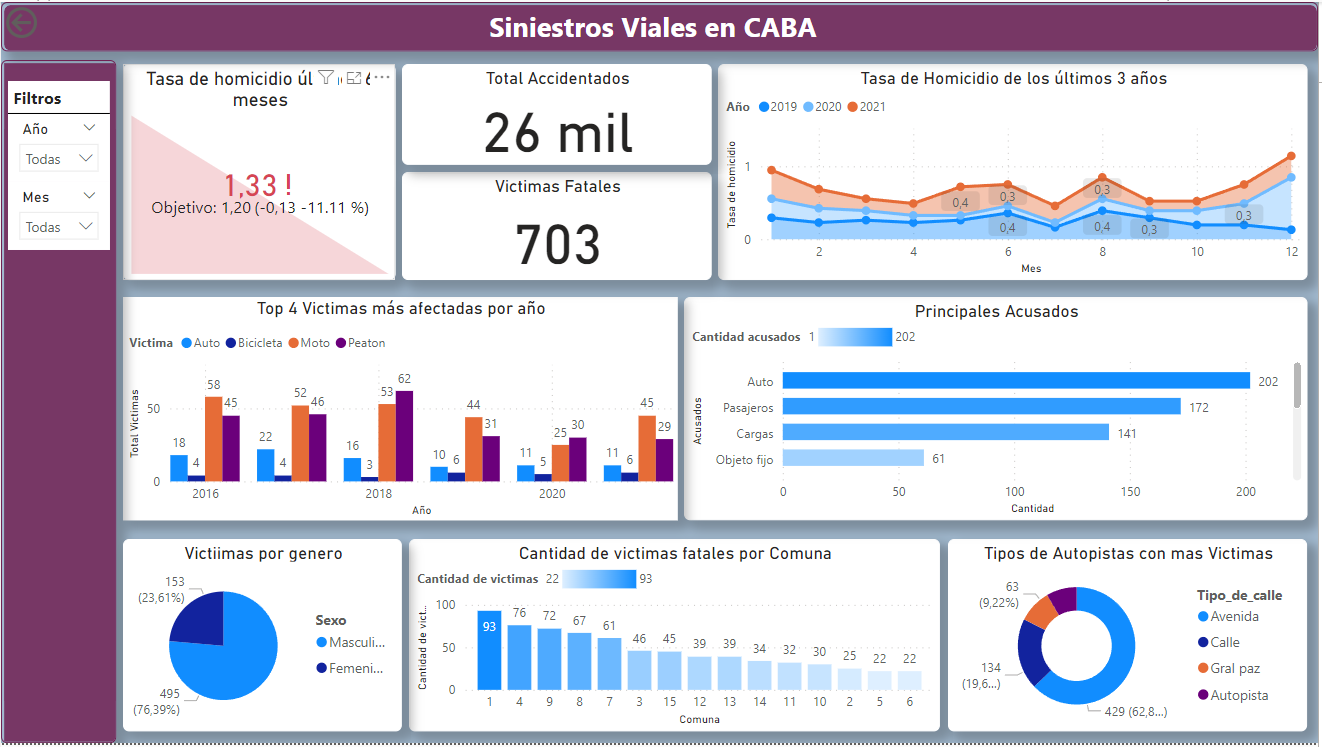

What the dashboard file says about the page in this screenshot:
{"tool":"powerbi","page":{"name":"General","canvas":[1280,720],"ordinal":0},"visuals":[{"type":"kpi","title":" Tasa de homicidio últimos 6 meses","fields":{"TrendLine":["Calendario.Semestre"],"Indicator":["Medidas Principales.tasa_homicidios"],"Goal":["Medidas Principales.reduccion_tasa_homicidio"]},"box":[118.1,60.3,264.6,210.3],"z":0},{"type":"columnChart","title":"Cantidad de victimas fatales por Comuna","fields":{"Category":["homicidios_hechos.Comuna"],"Y":["Sum(homicidios_hechos.N_Victimas)"]},"box":[396.5,521.9,516.1,186.6],"z":1000},{"type":"donutChart","title":"Tipos de Autopistas con mas Victimas","fields":{"Category":["homicidios_hechos.Tipo_de_calle"],"Y":["CountNonNull(homicidios_hechos.Tipo_de_calle)"]},"box":[920.4,521.9,348.9,186.6],"z":2000},{"type":"clusteredBarChart","title":"Principales Acusados","fields":{"Category":["homicidios_hechos.Acusado"],"Y":["CountNonNull(homicidios_hechos.Acusado)"]},"box":[663.7,287,606,217.2],"z":3000},{"type":"stackedAreaChart","title":"Tasa de Homicidio de los últimos 3 años","fields":{"Category":["Calendario.Mes"],"Y":["Medidas Principales.tasa_homicidios"],"Series":["homicidios_hechos.Año"]},"box":[696.5,60.3,573.2,210.3],"z":4000},{"type":"clusteredColumnChart","title":"Top 4 Victimas más afectadas por año","fields":{"Category":["Calendario.Año"],"Y":["Sum(homicidios_hechos.N_Victimas)"],"Series":["homicidios_hechos.Victima"]},"box":[118.1,287,538.7,217.2],"z":5000},{"type":"shape","box":[0,0,1280,48.3],"z":6000},{"type":"shape","box":[0,56,112.1,663.7],"z":7000},{"type":"textbox","box":[469.8,0,373.2,45.7],"z":8000},{"type":"pieChart","title":"Victiimas por genero","fields":{"Category":["homicidios_victimas.Sexo"],"Y":["CountNonNull(homicidios_victimas.Sexo)"]},"box":[118.6,521.9,271.2,186.6],"z":9000},{"type":"card","title":"Victimas Fatales","fields":{"Values":["Sum(homicidios_hechos.N_Victimas)"]},"box":[389.6,165.5,300.8,105.2],"z":10000},{"type":"card","title":"Total Accidentados","fields":{"Values":["Sum(lesiones_hechos.N_victimas)"]},"box":[389.6,60.3,300.8,98.3],"z":11000},{"type":"textbox","box":[6.8,76.8,99.1,32.1],"z":12000},{"type":"shape","box":[6.8,96.2,99.1,25.3],"z":13000},{"type":"slicer","title":"Año","fields":{"Values":["Calendario.Año"]},"box":[6.8,108.9,99.1,66.1],"z":14000},{"type":"slicer","fields":{"Values":["Calendario.Mes"]},"box":[6.8,174.9,99.1,66.1],"z":15000},{"type":"actionButton","box":[0,0,100,40],"z":16000}]}

Visuals, with their boxes in screenshot pixels (x1, y1, x2, y2), scaled from the page's 1280x720 canvas onto the 1322x747 screenshot:
" Tasa de homicidio últimos 6 meses" kpi: l=122, t=63, r=395, b=281
"Cantidad de victimas fatales por Comuna" columnChart: l=410, t=541, r=943, b=735
"Tipos de Autopistas con mas Victimas" donutChart: l=951, t=541, r=1311, b=735
"Principales Acusados" clusteredBarChart: l=685, t=298, r=1311, b=523
"Tasa de Homicidio de los últimos 3 años" stackedAreaChart: l=719, t=63, r=1311, b=281
"Top 4 Victimas más afectadas por año" clusteredColumnChart: l=122, t=298, r=678, b=523
shape: l=0, t=0, r=1321, b=50
shape: l=0, t=58, r=116, b=746
textbox: l=485, t=0, r=871, b=47
"Victiimas por genero" pieChart: l=122, t=541, r=403, b=735
"Victimas Fatales" card: l=402, t=172, r=713, b=281
"Total Accidentados" card: l=402, t=63, r=713, b=165
textbox: l=7, t=80, r=109, b=113
shape: l=7, t=100, r=109, b=126
"Año" slicer: l=7, t=113, r=109, b=182
slicer - Calendario.Mes: l=7, t=181, r=109, b=250
actionButton: l=0, t=0, r=103, b=42
